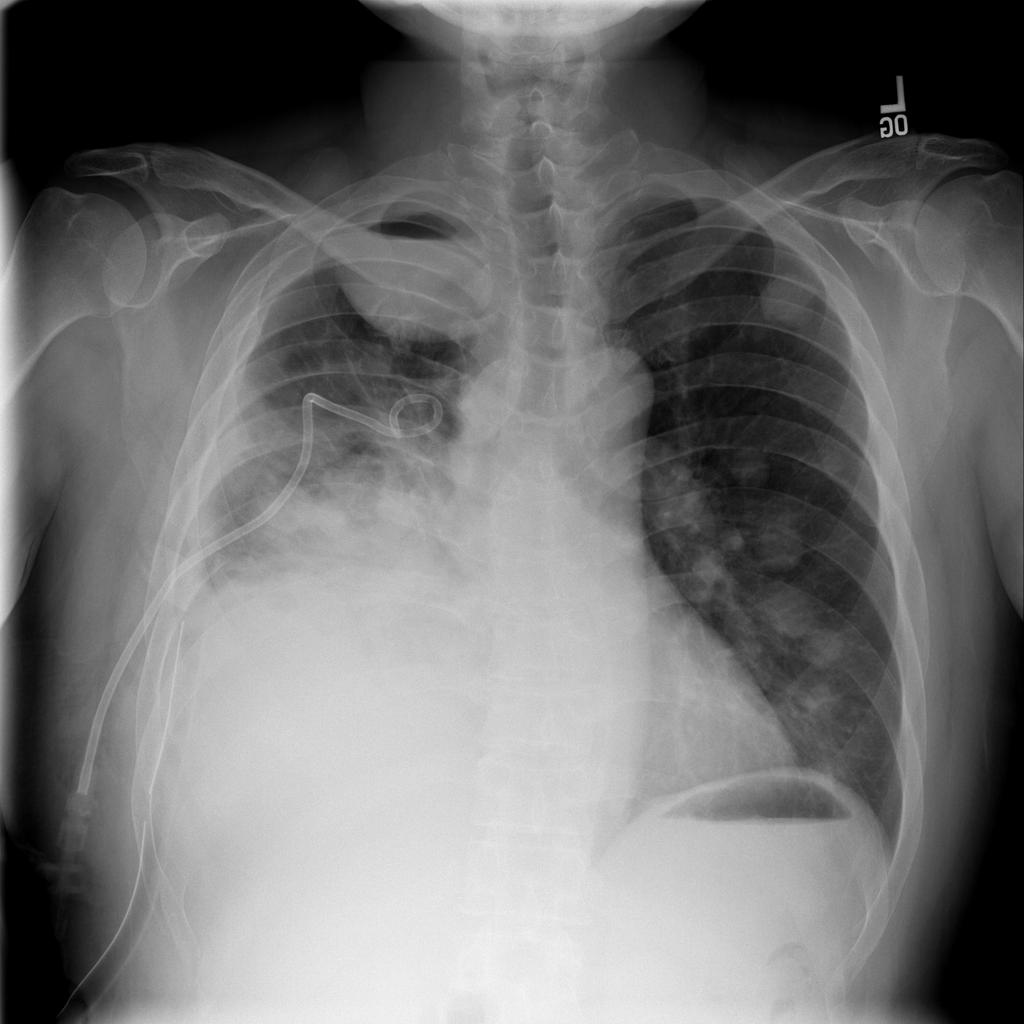nodule: (749, 260, 827, 334), (736, 504, 810, 577), (785, 670, 864, 735), (747, 573, 823, 639), (798, 429, 866, 502), (789, 615, 864, 680), (714, 432, 784, 500)
